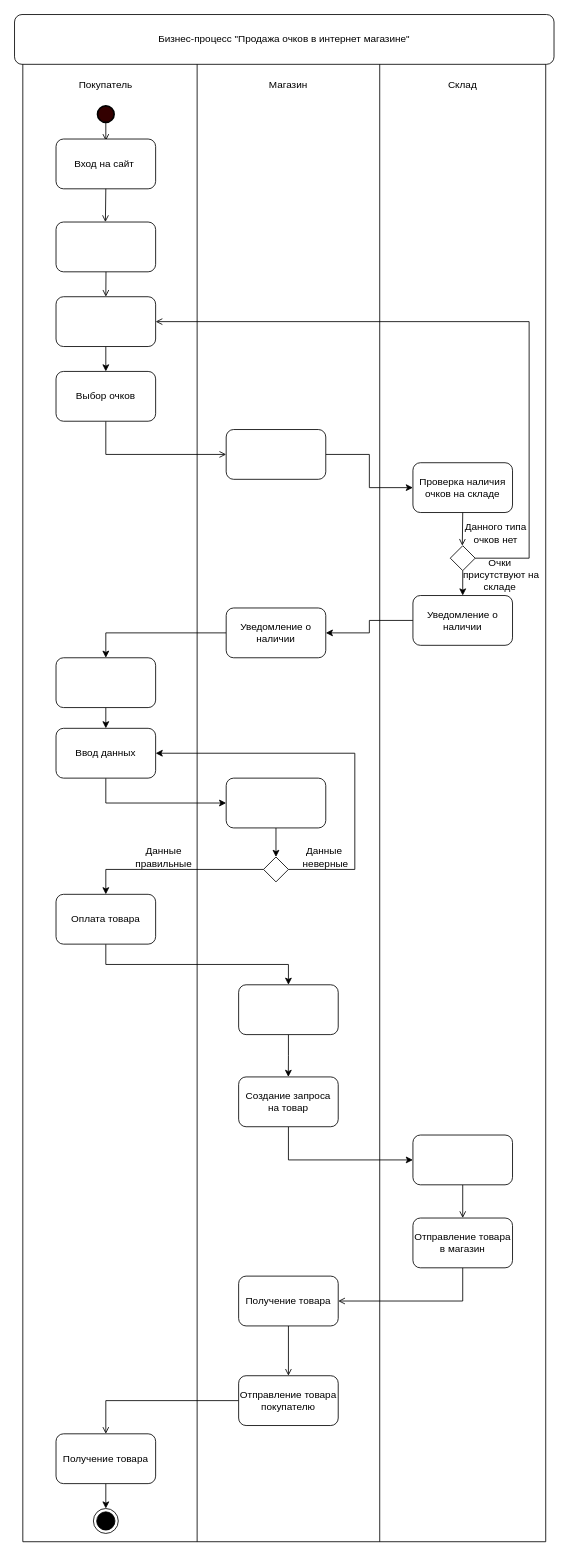
This 569x1557 diagram has some shape labels left out. The centre of each missing label's shape, as x and y in pixels:
Добавление в корзину: (x=105, y=682)
Запрос на наличие очков: (x=275, y=454)
Получение запроса на товар: (x=462, y=1159)
Получение платежа: (x=288, y=1009)
Проверка данных покупателя: (x=275, y=802)
Просмотр каталога: (x=105, y=321)
Регистрация на сайте: (x=105, y=246)
